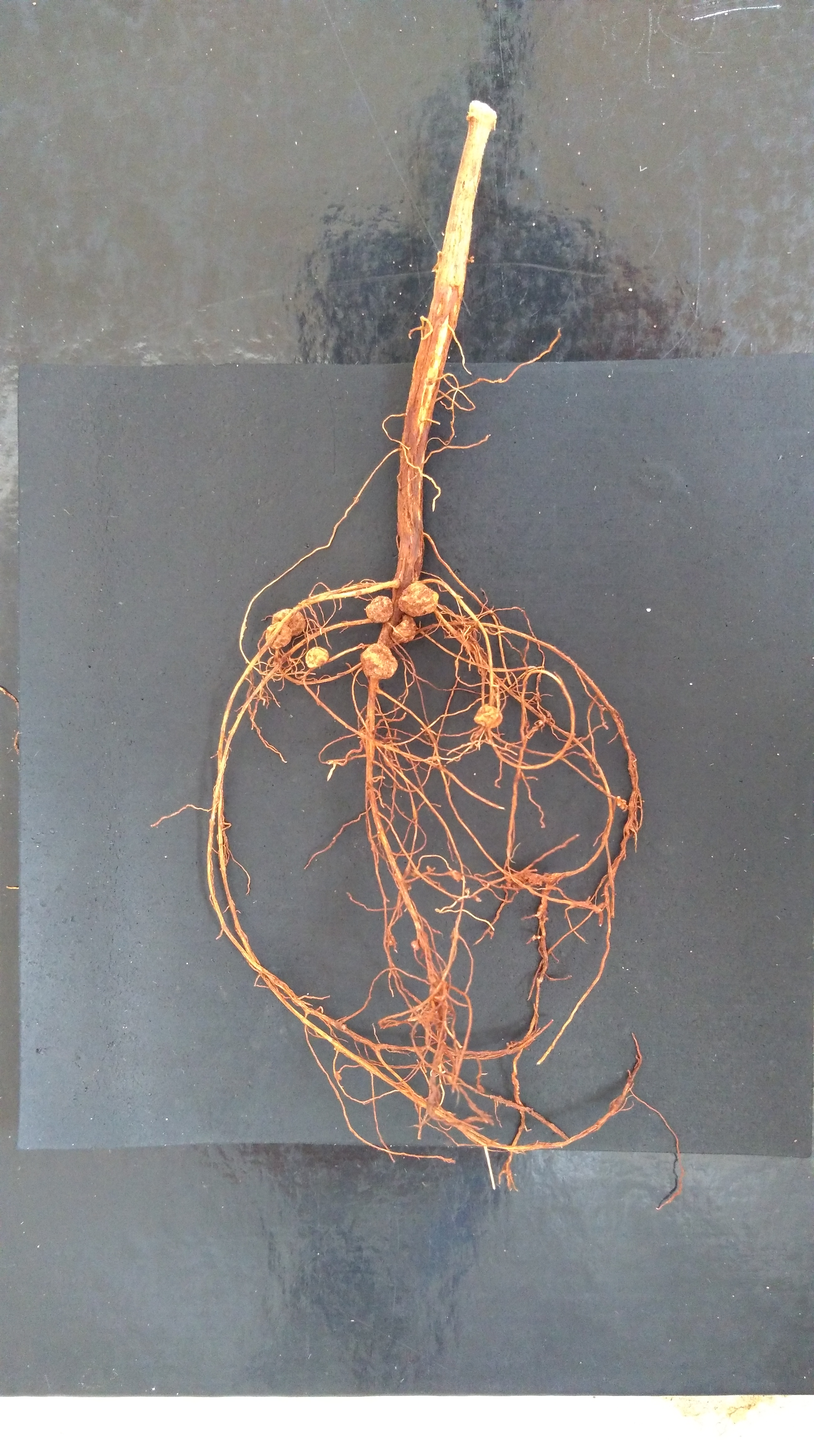nodule: (397, 580, 439, 618), (359, 642, 399, 680), (271, 607, 307, 637), (365, 594, 394, 626), (264, 620, 293, 651), (390, 612, 418, 643), (473, 704, 504, 729), (305, 646, 330, 670), (449, 869, 463, 883), (409, 937, 421, 952)
